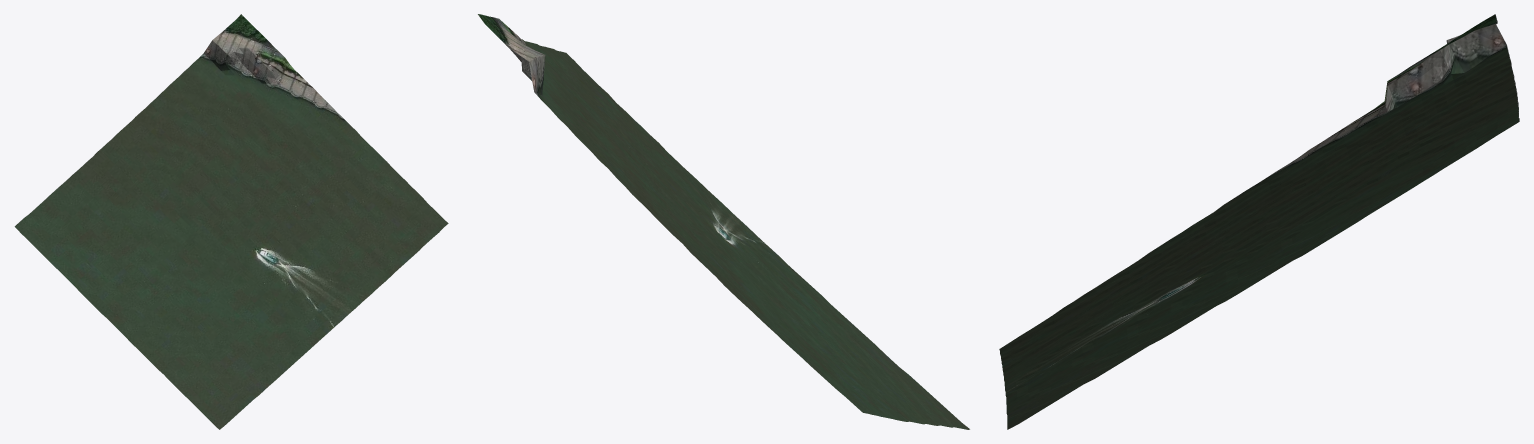
3 views of the same model, side by side, from view 1: azimuth 30°, elevation 25°; view 2: azimuth 150°, elevation 25°; view 3: azimuth 270°, elevation 25° (orthographic). The views are drawn at different scales.
Size of the model in its own units: 291 by 266 by 226.
1 material, 1 textured.
